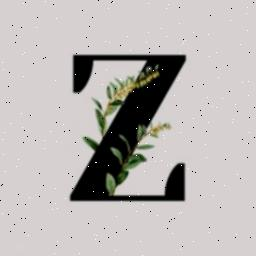z: (61, 45, 197, 211)
